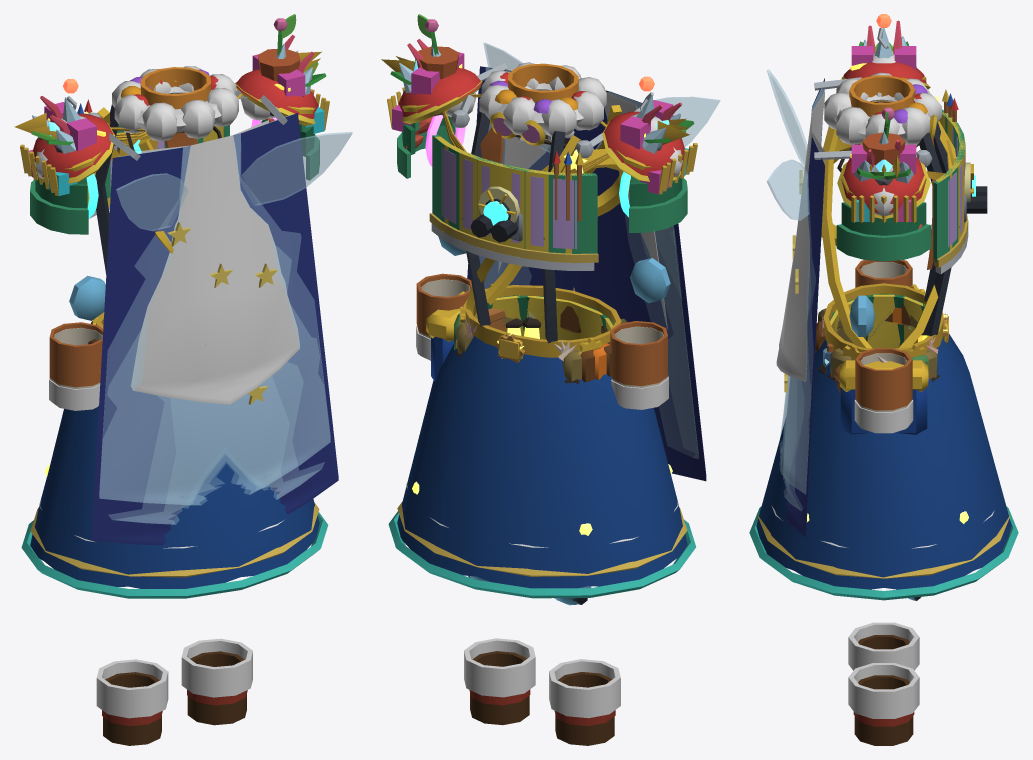
File: tenues_250_v001.glb
3 views of the same model, side by side, from view 1: azimuth 30°, elevation 25°; view 2: azimuth 150°, elevation 25°; view 3: azimuth 270°, elevation 25° (orthographic). The views are drawn at different scales.
Parts seen in each view (by area): view 1: tenue_veilleur_des_etoiles__torse, tenue_fantome_du_phare__torse, tenue_pirate_des_nuages__torse, tenue_mage_des_marees__bassin, tenue_chevalier_des_brumes__torse, tenue_reine_des_lucioles__torse, tenue_dresseur_de_nuages__torse, tenue_explorateur_polaire__genou_G, tenue_explorateur_polaire__genou_D, tenue_chasseur_de_cometes__torse, tenue_champion_du_desert__coude_G, tenue_samourai_de_jade__epaule_G (+14 smaller); view 2: tenue_mage_des_marees__bassin, tenue_veilleur_des_etoiles__torse, tenue_chevalier_des_brumes__torse, tenue_chevalier_citron__torse, tenue_samourai_de_jade__torse, tenue_architecte_de_cristal__torse, tenue_chasseur_de_cometes__torse, tenue_dresseur_de_nuages__torse, tenue_alchimiste_dore__bassin, tenue_explorateur_polaire__genou_D, tenue_explorateur_polaire__genou_G, tenue_facteur_express__torse (+29 smaller); view 3: tenue_mage_des_marees__bassin, tenue_veilleur_des_etoiles__torse, tenue_facteur_express__torse, tenue_pirate_des_nuages__torse, tenue_fantome_du_phare__torse, tenue_samourai_de_jade__epaule_D, tenue_dresseur_de_nuages__torse, tenue_chasseur_de_cometes__torse, tenue_reine_des_lucioles__torse, tenue_explorateur_polaire__genou_D, tenue_champion_du_desert__coude_D, tenue_samourai_de_jade__torse (+25 smaller).
Part boxes in pixels (x1,y1,x2,y2): tenue_veilleur_des_etoiles__torse: [85, 111, 338, 545]; tenue_fantome_du_phare__torse: [99, 114, 330, 505]; tenue_pirate_des_nuages__torse: [131, 120, 299, 404]; tenue_mage_des_marees__bassin: [21, 406, 328, 598]; tenue_chevalier_des_brumes__torse: [88, 90, 324, 524]; tenue_reine_des_lucioles__torse: [116, 131, 352, 231]; tenue_dresseur_de_nuages__torse: [112, 66, 238, 141]; tenue_explorateur_polaire__genou_G: [96, 659, 168, 718]; tenue_explorateur_polaire__genou_D: [181, 638, 252, 697]; tenue_chasseur_de_cometes__torse: [95, 67, 210, 274]; tenue_champion_du_desert__coude_G: [49, 322, 103, 387]; tenue_samourai_de_jade__epaule_G: [30, 178, 88, 234]; tenue_mage_des_marees__bassin: [388, 335, 695, 598]; tenue_veilleur_des_etoiles__torse: [467, 66, 706, 481]; tenue_chevalier_des_brumes__torse: [450, 63, 698, 458]; tenue_chevalier_citron__torse: [431, 136, 594, 270]; tenue_samourai_de_jade__torse: [429, 135, 598, 263]; tenue_architecte_de_cristal__torse: [441, 95, 607, 249]; tenue_chasseur_de_cometes__torse: [462, 63, 578, 343]; tenue_dresseur_de_nuages__torse: [479, 62, 606, 137]; tenue_alchimiste_dore__bassin: [463, 285, 621, 357]; tenue_explorateur_polaire__genou_D: [464, 638, 535, 697]; tenue_explorateur_polaire__genou_G: [549, 659, 620, 718]; tenue_facteur_express__torse: [426, 105, 621, 382]; tenue_mage_des_marees__bassin: [749, 334, 1018, 600]; tenue_veilleur_des_etoiles__torse: [784, 78, 938, 537]; tenue_facteur_express__torse: [821, 121, 956, 434]; tenue_pirate_des_nuages__torse: [776, 92, 824, 381]; tenue_fantome_du_phare__torse: [779, 89, 824, 494]; tenue_samourai_de_jade__epaule_D: [836, 202, 931, 261]; tenue_dresseur_de_nuages__torse: [824, 72, 941, 144]; tenue_chasseur_de_cometes__torse: [849, 75, 959, 336]; tenue_reine_des_lucioles__torse: [766, 69, 809, 220]; tenue_explorateur_polaire__genou_D: [848, 663, 919, 718]; tenue_champion_du_desert__coude_D: [855, 348, 912, 410]; tenue_samourai_de_jade__torse: [933, 109, 968, 267].
Size of the model in its own units: 0.7988 by 1.68 by 0.622.
